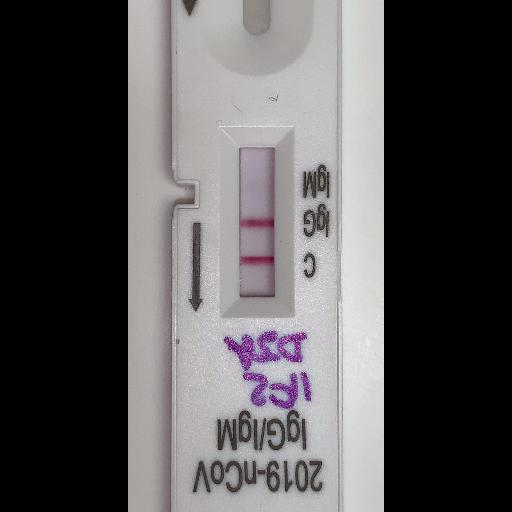Pos: (170, 0, 343, 511)
